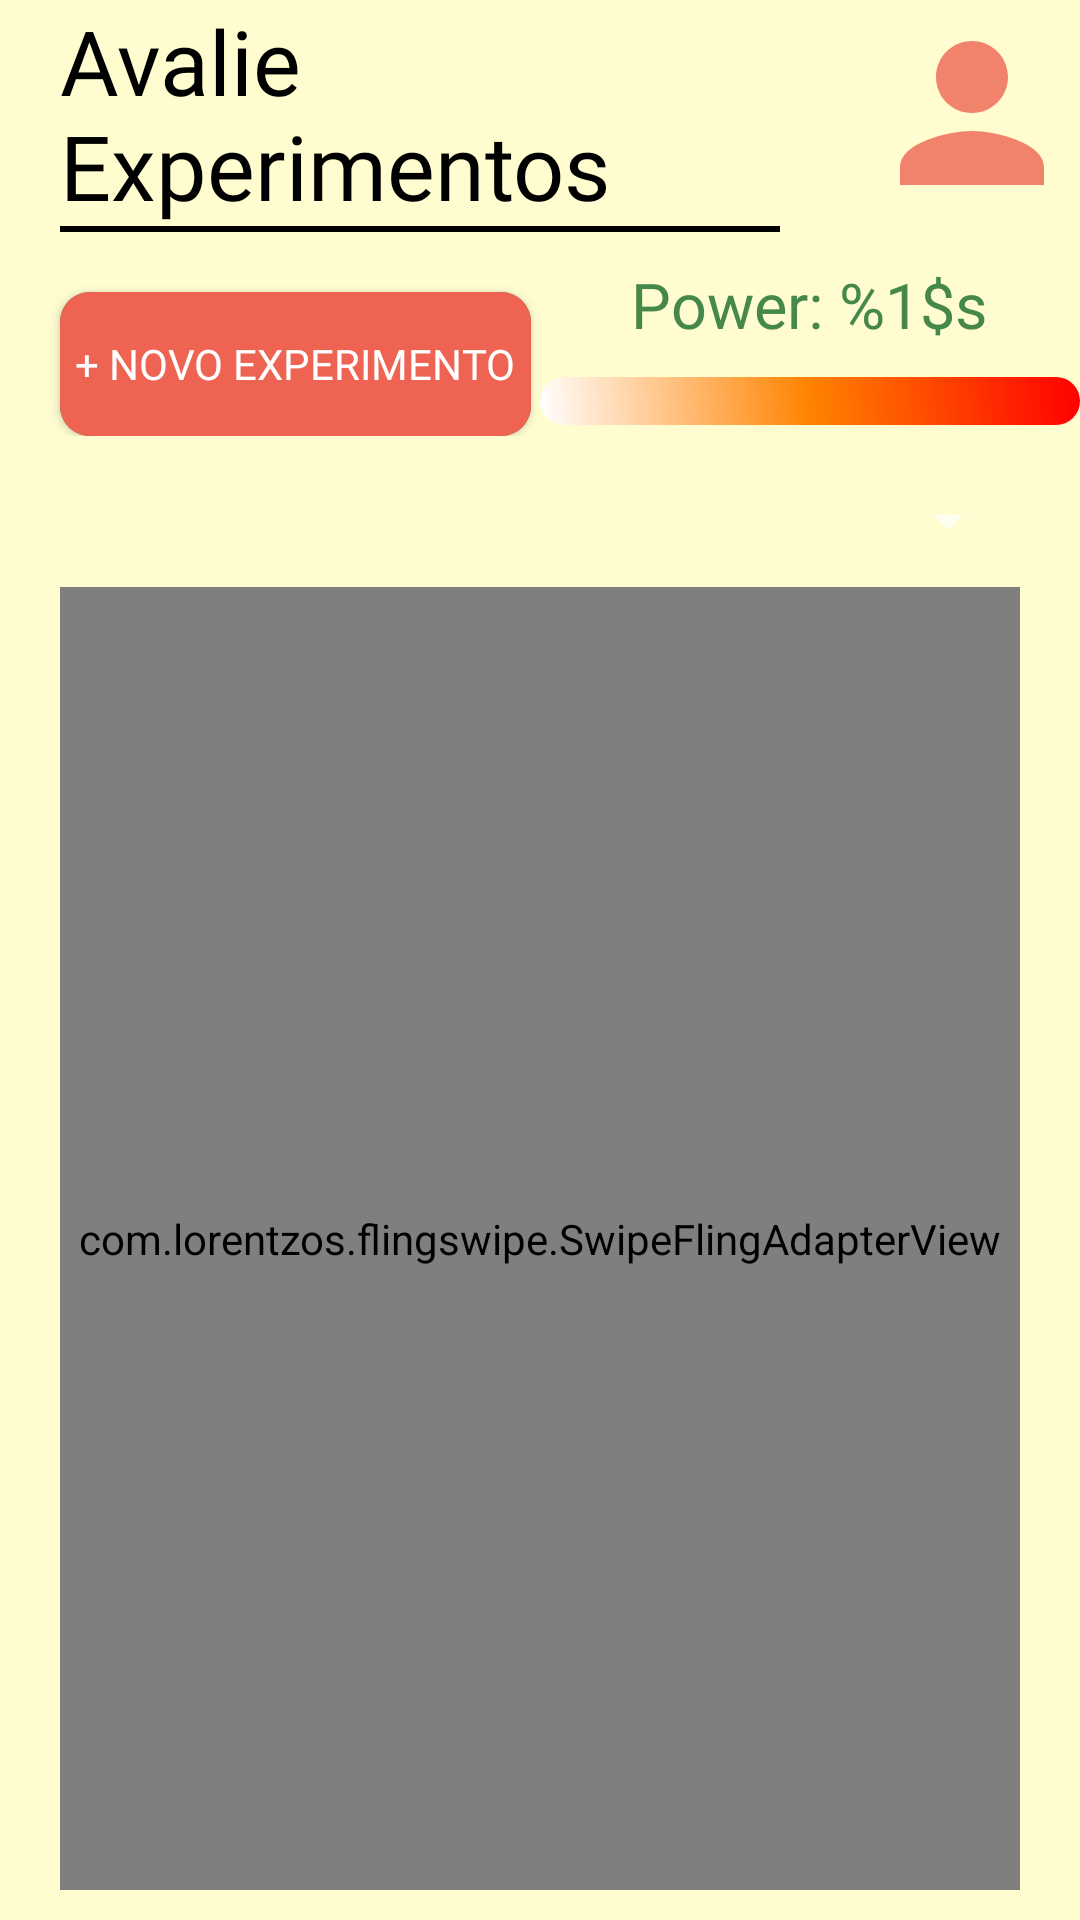

Named icons in this screenshot (1080px×1920px) and their bounding boxes, (x1, y1, x2, y2):
profile: (900, 41, 1044, 185)
